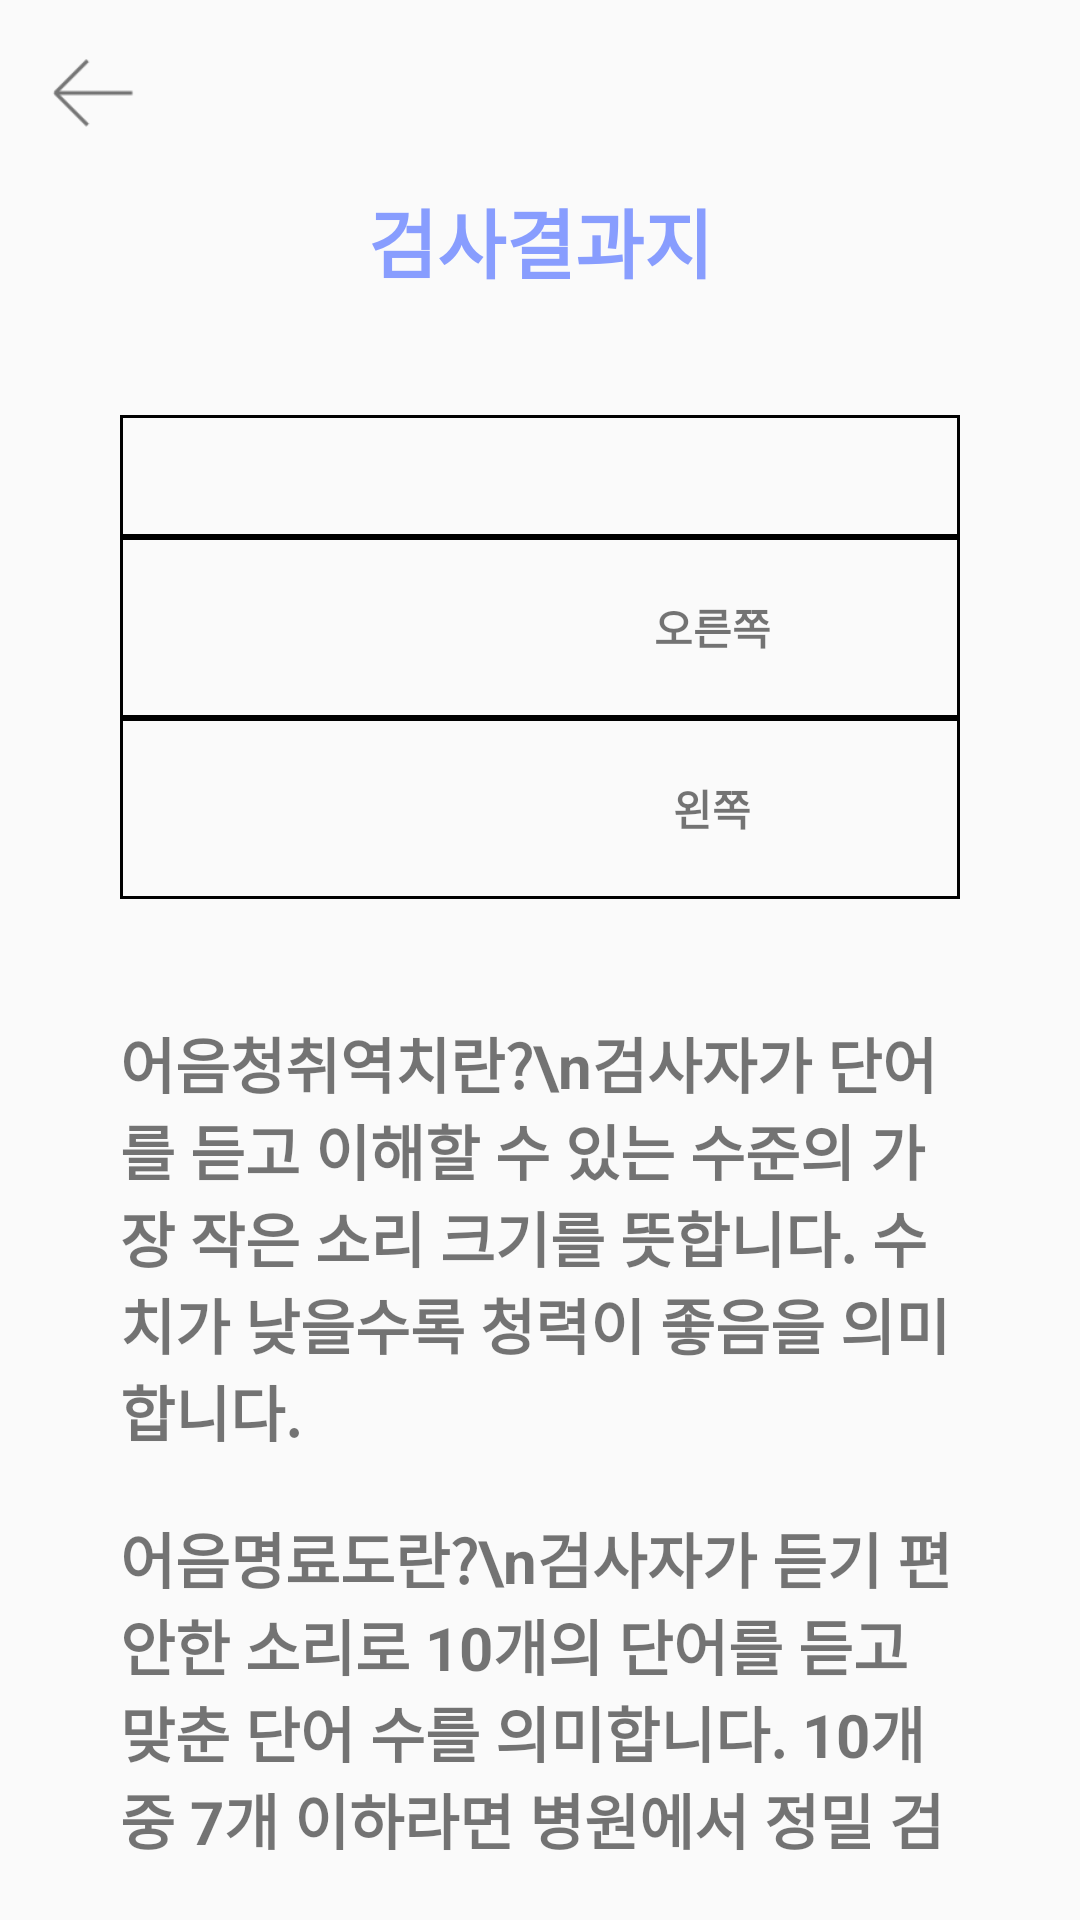

Icon click points for this 1080 x 1920 phone screenshot, format (x,y):
pageback: (93,93)
